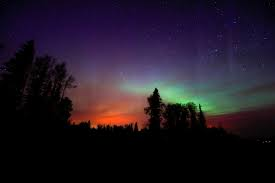fire: (85, 92, 150, 127)
smoke: (83, 9, 170, 88)
